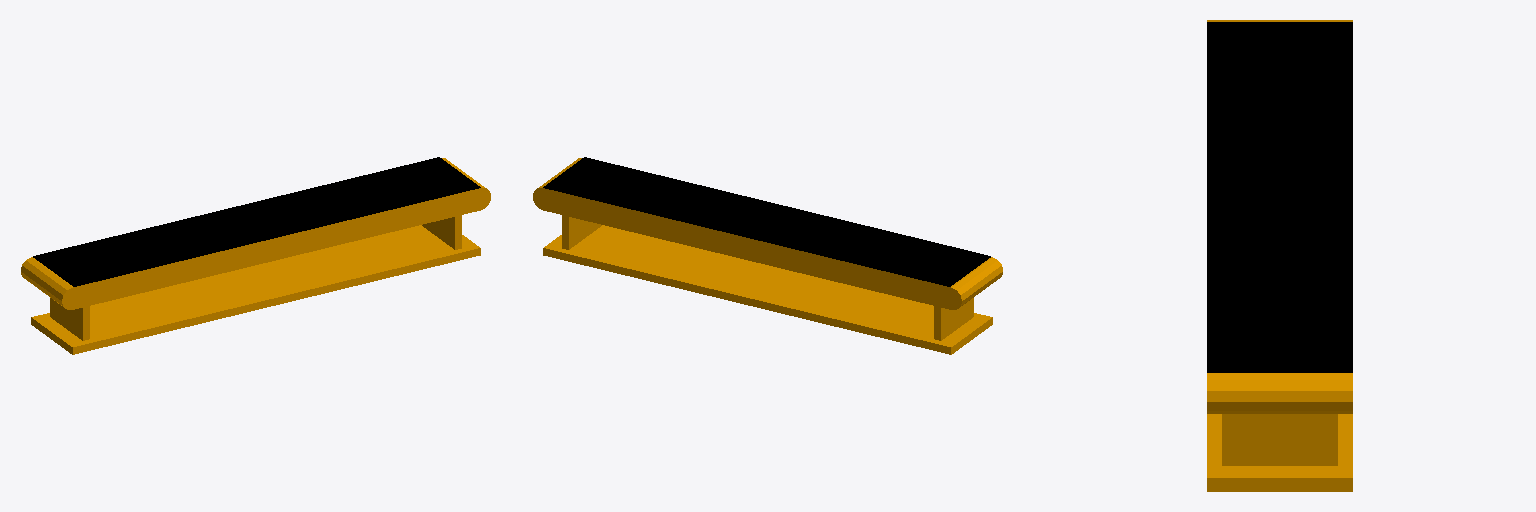
The robot description file, URDF, robot "conveyor_belt":
<?xml version="1.0"?>
<robot  name="conveyor_belt">
  <material name="black">
    <color rgba="0 0 0 1"/>
  </material>
  <link name="base_link">
    <inertial>
      <origin xyz="1.15972439062802E-17 -0.0273162100367329 1.02144955943776E-17" rpy="0 0 0" />
      <mass value="2430.68583470577" />
      <inertia ixx="431.198140853202" ixy="2.18658245479853E-14" ixz="4.38017677684144E-14" iyy="7514.31711977665" iyz="3.72364768160213E-15" izz="7545.20095484556" />
    </inertial>
    <visual>
      <origin xyz="0 0 0" rpy="0 0 0" />
      <geometry>
        <mesh filename="../meshes/base_link.obj" />
      </geometry>
    </visual>
    <collision>
      <origin xyz="0 0 0" rpy="0 0 0" />
      <geometry>
        <mesh filename="../meshes/base_link.obj" />
      </geometry>
    </collision>
  </link>
  <link name="belt_link">
    <inertial>
      <origin xyz="2.84 0.00499999999999995 2.76334119905601E-17" rpy="0 0 0" />
      <mass value="56.8" />
      <color rgba="1 1 0 0"/> 
      <inertia ixx="4.73380666666667" ixy="3.71142749699624E-34" ixz="2.20830761084774E-15" iyy="157.442026666667" iyz="2.30486925841449E-19" izz="152.709166666667" />
    </inertial>
    <visual>
      <origin xyz="0 0 0" rpy="0 0 0" />
      <geometry>
        <mesh filename="../meshes/belt_link.obj" />
      </geometry>
    <material name="black"/>
    </visual>
    <collision>
      <origin xyz="0 0 0" rpy="0 0 0" />
      <geometry>
        <mesh filename="../meshes/belt_link.obj" />
      </geometry>
    </collision>
  </link>
  <joint name="belt_joint" type="prismatic">
    <origin xyz="-2.83 0 0.3" rpy="1.5708 0 0" />
    <parent link="base_link" />
    <child link="belt_link" />
    <axis xyz="-1 0 0" />
    <limit lower="0" upper="0.01" effort="0" velocity="10" />
  </joint>
</robot>

--- What the picture shows (computed from the rendered views, not written in the file) ---
The picture shows the robot from 3 angles, left to right: view 1: azimuth 30°, elevation 25°; view 2: azimuth 150°, elevation 25°; view 3: azimuth 270°, elevation 25°; orthographic projection.
Model conveyor_belt with 2 links and 1 joints (1 prismatic), rooted at base_link, posed all joints at 0.
Links seen in each view (by area): view 1: base_link, belt_link; view 2: base_link, belt_link; view 3: belt_link, base_link.
Boxes of the visible links, x1,y1,x2,y2 form: base_link: (21, 158, 490, 354); belt_link: (33, 157, 480, 286); base_link: (533, 158, 1002, 354); belt_link: (543, 157, 990, 286); belt_link: (1207, 22, 1352, 372); base_link: (1207, 20, 1352, 491).
Bounding box of the posed robot: 6 × 1 × 0.91 m (x, y, z).
Meshes: 2 distinct files referenced, 2 mesh visuals loaded (2 OBJ).